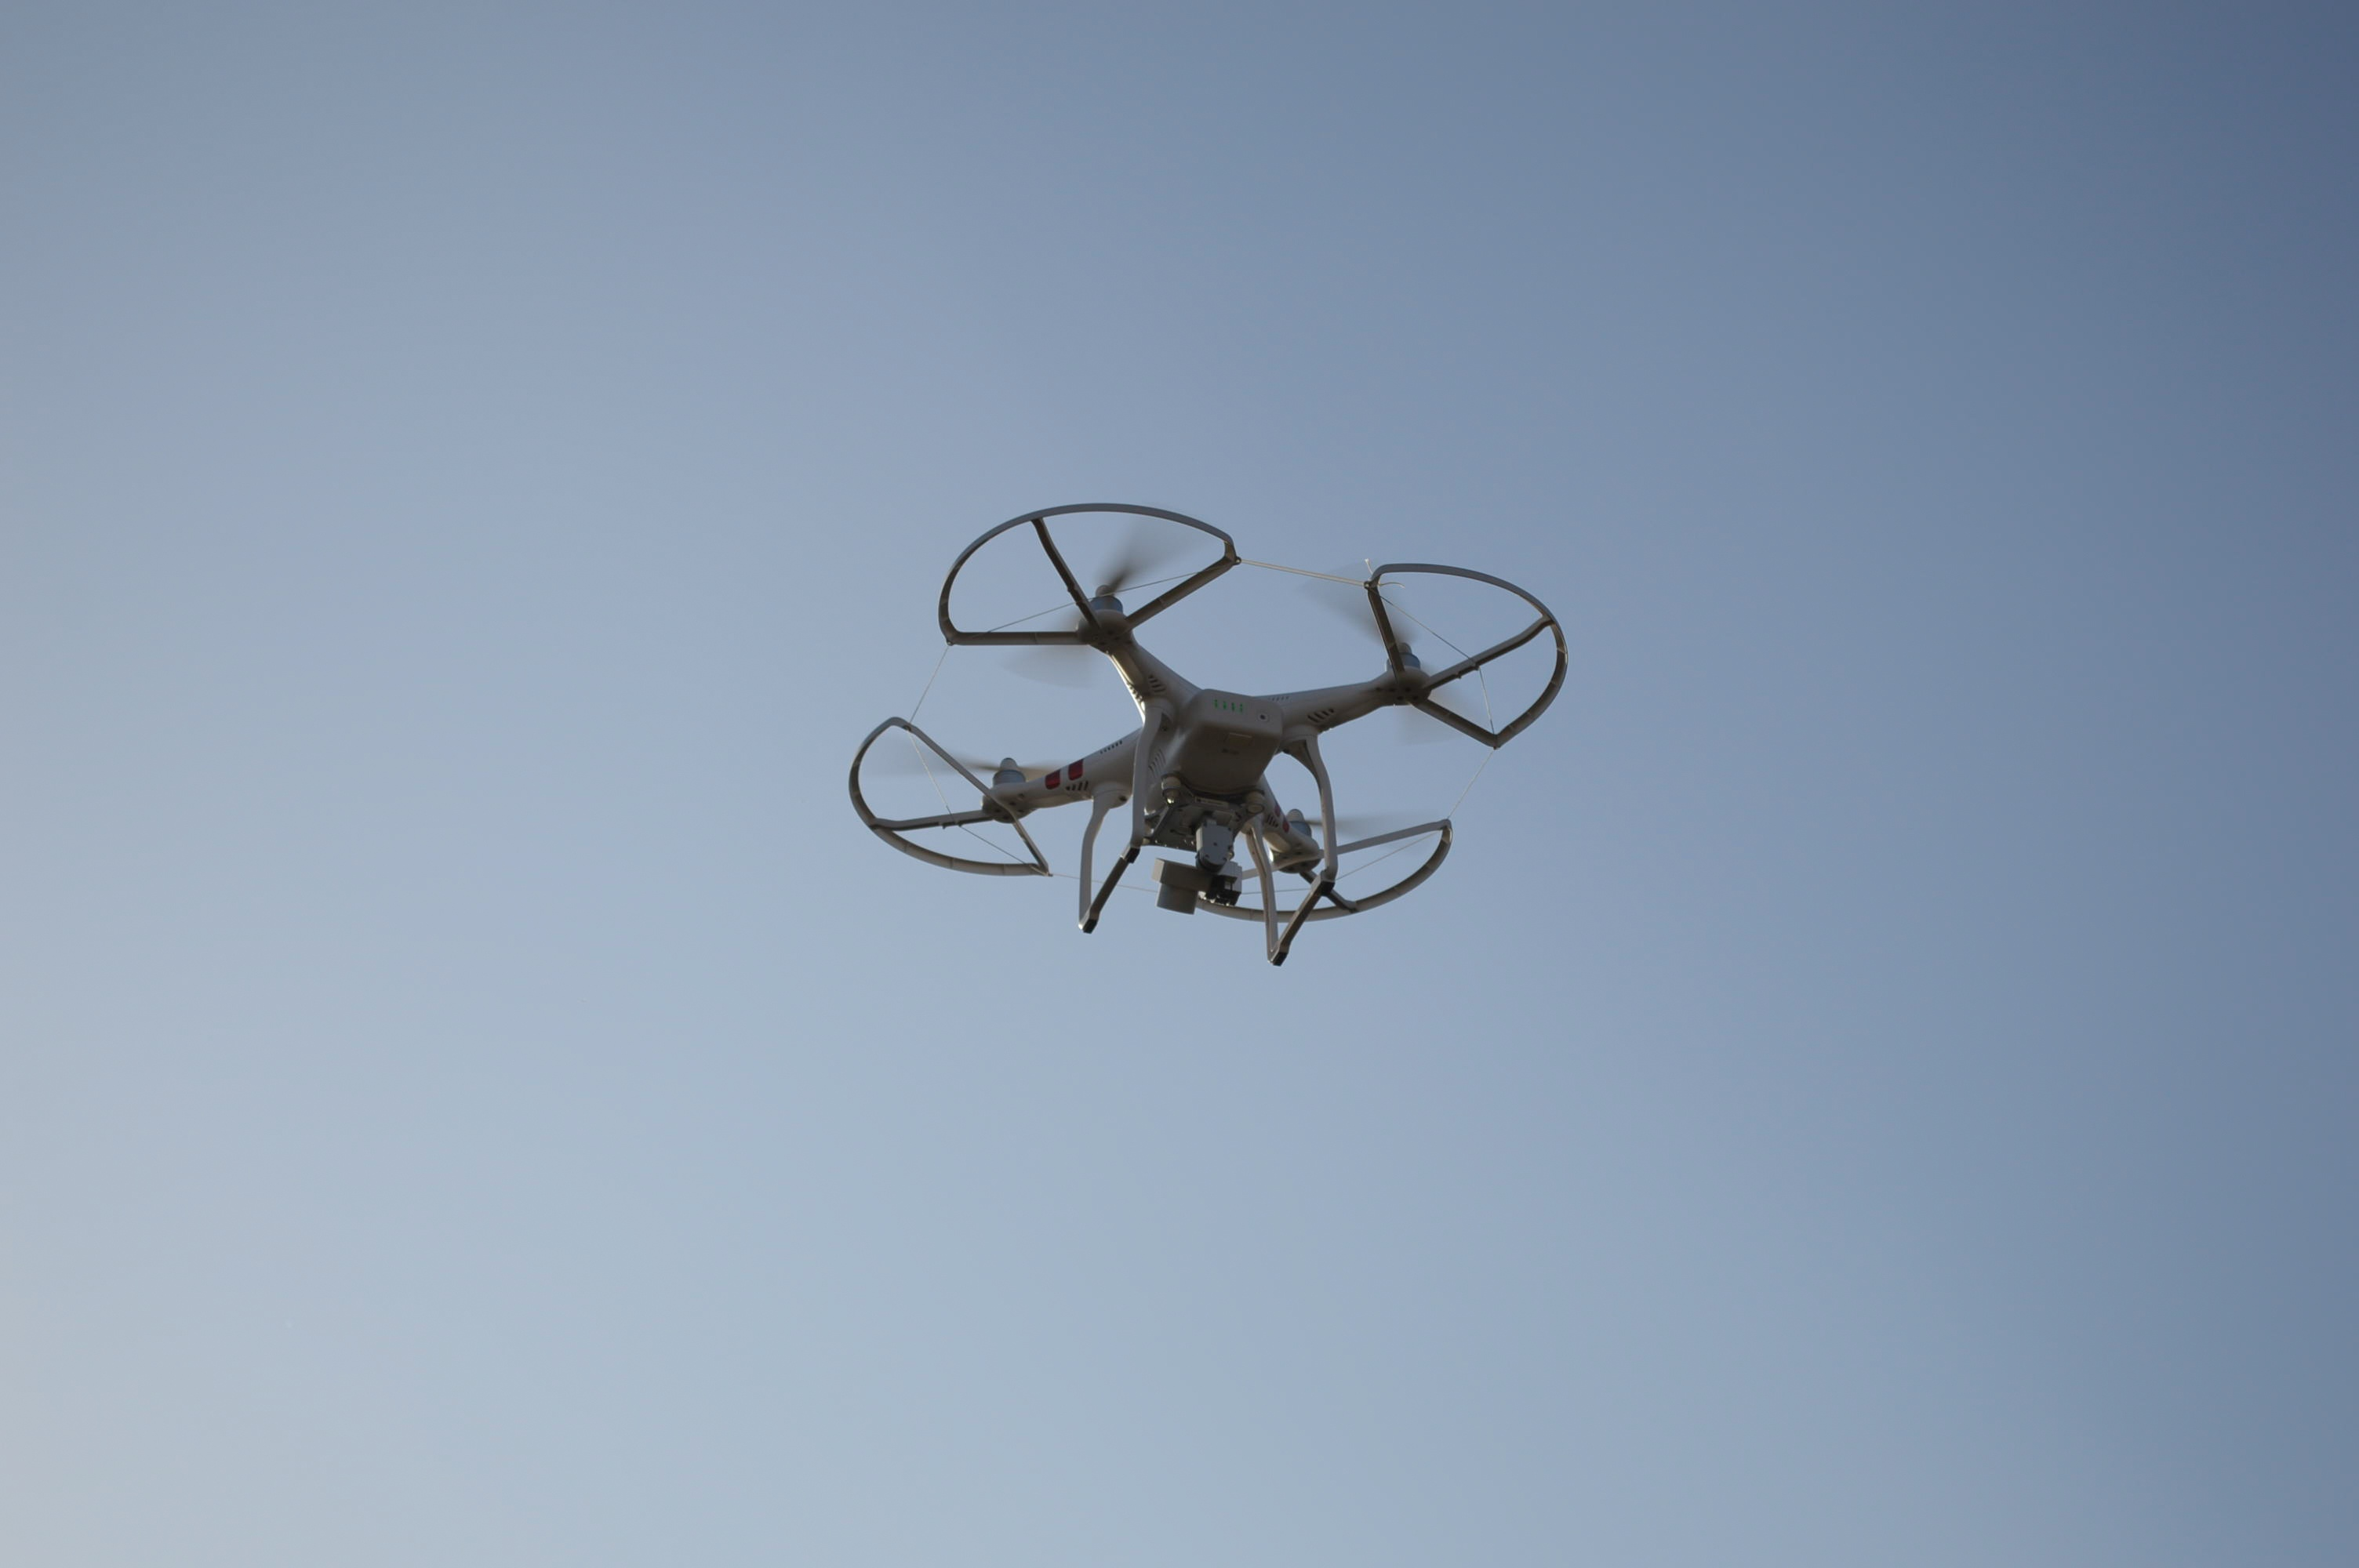DJI: (849, 500, 1573, 989)
